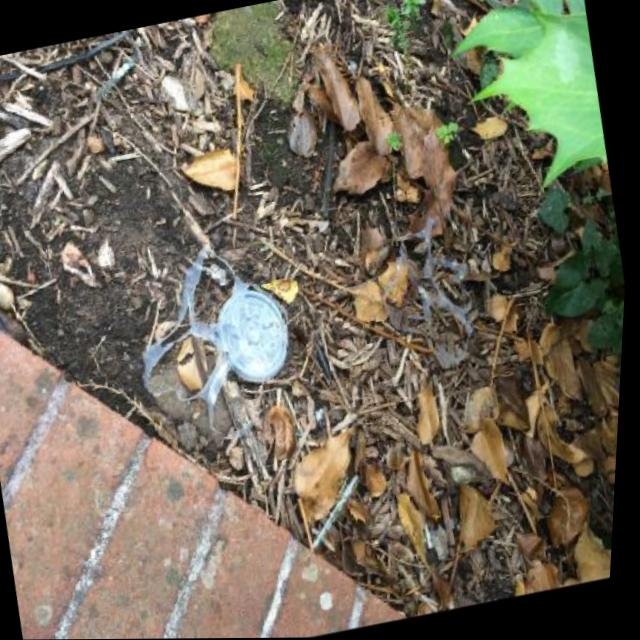plastic: (116, 228, 315, 457), (365, 210, 490, 383), (208, 284, 300, 391)
